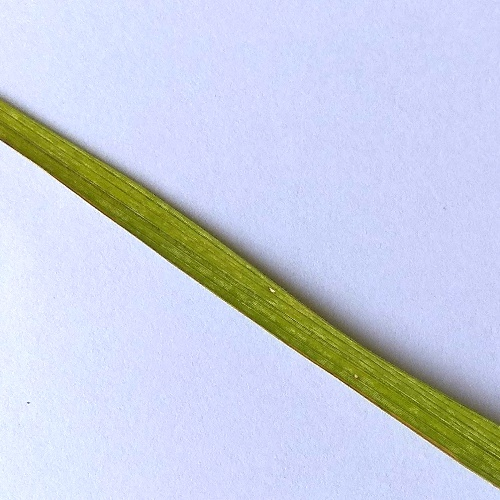Busuk Leher: (265, 276, 281, 300), (350, 366, 365, 388)
